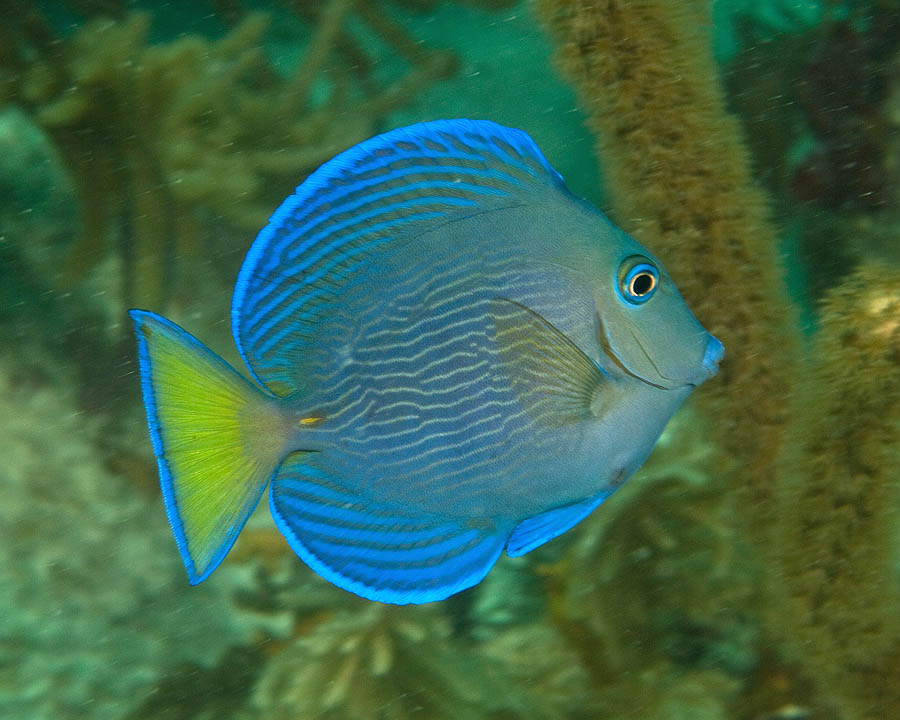Acanthurus_coeruleus: (124, 115, 732, 609)
